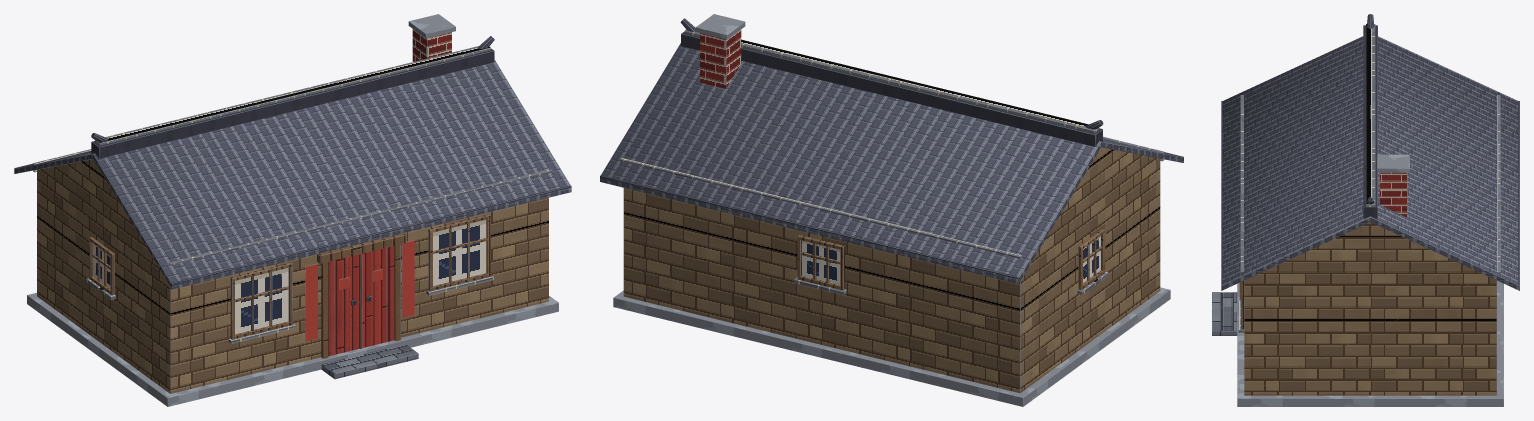
Rendered from cn_brick_house_7.glb.
3 views of the same model, side by side, from view 1: azimuth 30°, elevation 25°; view 2: azimuth 150°, elevation 25°; view 3: azimuth 270°, elevation 25° (orthographic). The views are drawn at different scales.
Visible parts, largest first — view 1: cn_brick_house_8; view 2: cn_brick_house_8; view 3: cn_brick_house_8.
Boxes of the visible parts, x1,y1,x2,y2 form: cn_brick_house_8: (14,14,571,406); cn_brick_house_8: (600,14,1183,406); cn_brick_house_8: (1212,14,1519,406).
Bounding box in the file's own units: 9.57 × 5.4 × 6.7.
14 materials, 14 textured.
